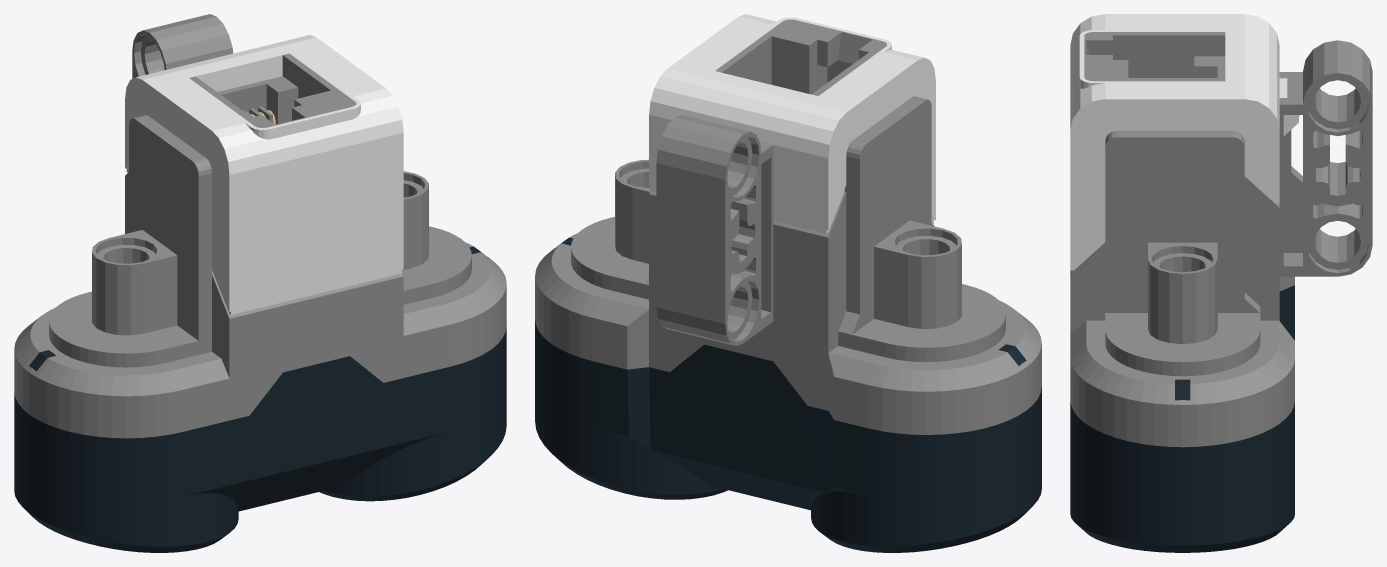
The model's file is sensor_ultrasonic.obj.
3 renders of one model, left to right at view 1: azimuth 30°, elevation 25°; view 2: azimuth 150°, elevation 25°; view 3: azimuth 270°, elevation 25°, orthographic. The views are drawn at different scales.
Parts seen in each view (by area): view 1: sensor_ultrasonic_969696, sensor_ultrasonic_1b2a34, sensor_ultrasonic_f4f4f4; view 2: sensor_ultrasonic_969696, sensor_ultrasonic_1b2a34, sensor_ultrasonic_f4f4f4; view 3: sensor_ultrasonic_969696, sensor_ultrasonic_1b2a34, sensor_ultrasonic_f4f4f4.
Boxes of the visible parts, x1,y1,x2,y2 form: sensor_ultrasonic_969696: (14,14,506,438); sensor_ultrasonic_1b2a34: (14,246,506,552); sensor_ultrasonic_f4f4f4: (125,35,403,314); sensor_ultrasonic_969696: (535,19,1041,434); sensor_ultrasonic_1b2a34: (535,237,1041,552); sensor_ultrasonic_f4f4f4: (649,14,935,233); sensor_ultrasonic_969696: (1070,32,1372,447); sensor_ultrasonic_1b2a34: (1070,285,1294,552); sensor_ultrasonic_f4f4f4: (1070,14,1298,270).
Size of the model in its own units: 55.2 by 47.42 by 31.2.
